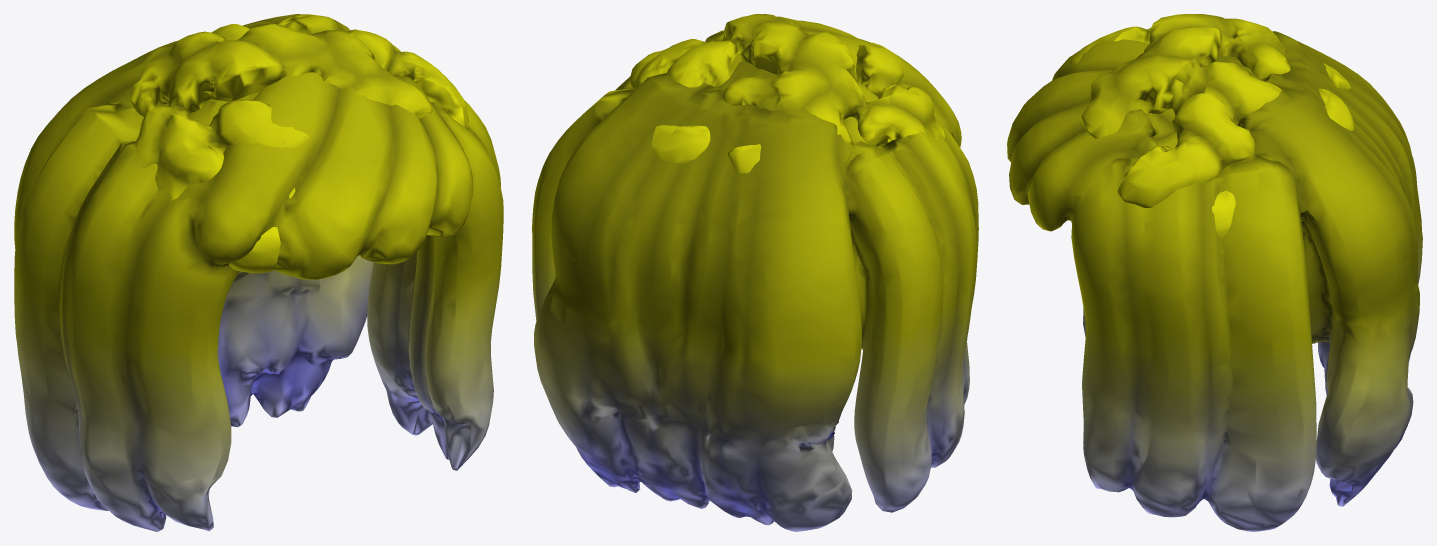
Rendered from doll_hair.glb.
3 views of the same model, side by side, from view 1: azimuth 30°, elevation 25°; view 2: azimuth 150°, elevation 25°; view 3: azimuth 270°, elevation 25° (orthographic). The views are drawn at different scales.
Visible parts, largest first — view 1: hair_waves__hair, hair_joecut__hair; view 2: hair_waves__hair, hair_joecut__hair; view 3: hair_waves__hair, hair_joecut__hair.
Boxes of the visible parts, x1,y1,x2,y2 form: hair_waves__hair: (14,14,503,531); hair_joecut__hair: (130,14,468,273); hair_waves__hair: (532,20,978,531); hair_joecut__hair: (629,14,944,173); hair_waves__hair: (1007,31,1422,531); hair_joecut__hair: (1070,14,1354,238).
Bounding box in the file's own units: 0.6098 × 0.6289 × 0.5518.
